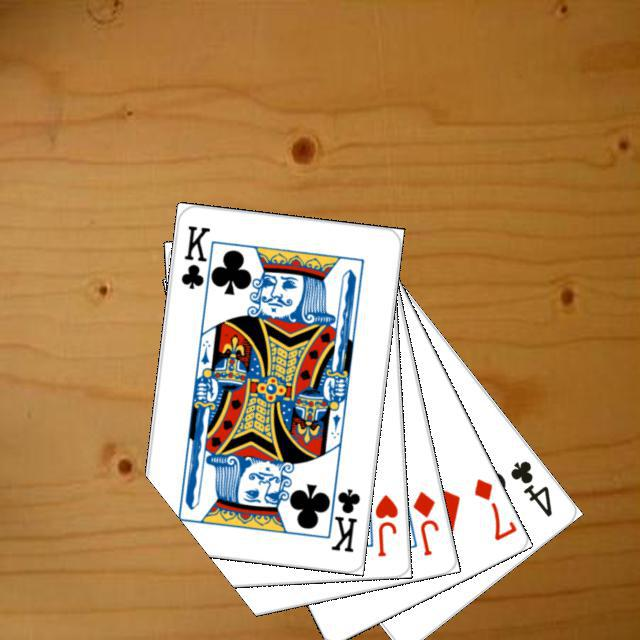4c: (505, 455, 554, 519)
7d: (469, 473, 517, 543)
Jd: (407, 486, 440, 558)
Jh: (370, 489, 400, 559)
Kc: (321, 475, 362, 554), (176, 221, 216, 299)
